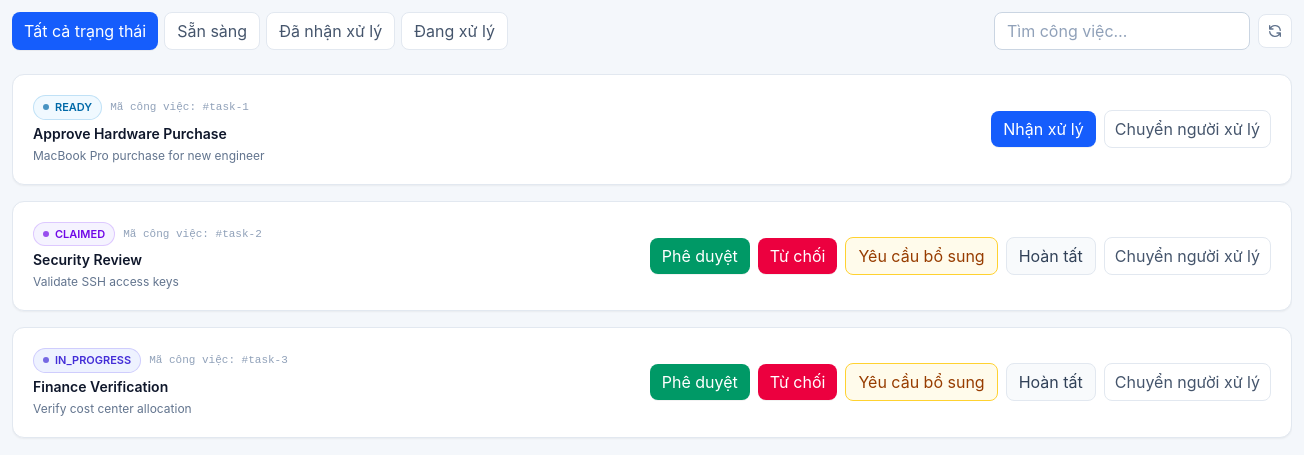
TaskInbox Component › sends commandId and expectedVersion when executing task action command
Click the button with test id "action-claim-task-1": (1043, 129) [991,111,1096,147]
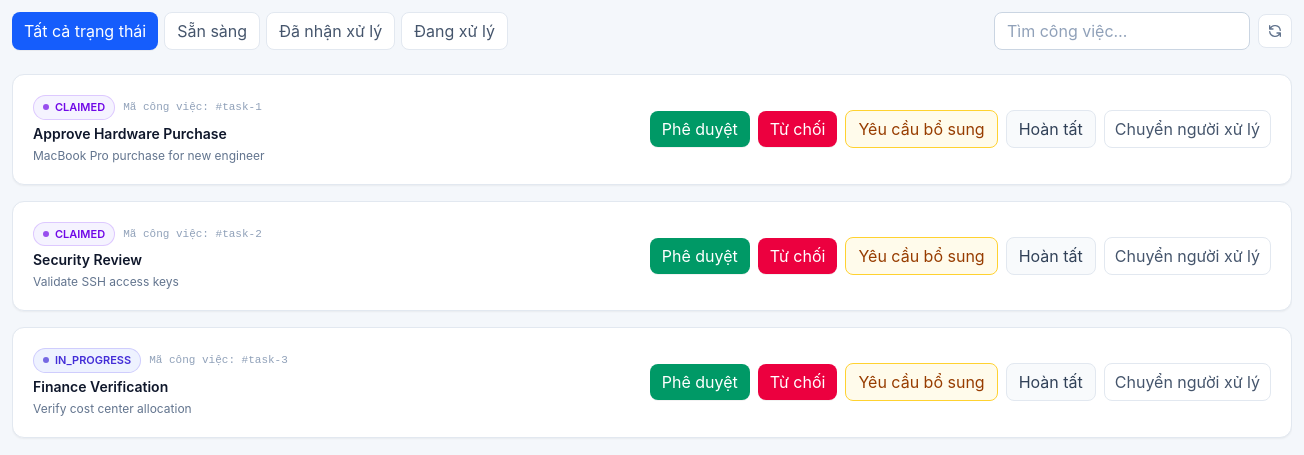
Check: the element with test id "task-status-task-1" reads "CLAIMED", box [55,100,105,114]
